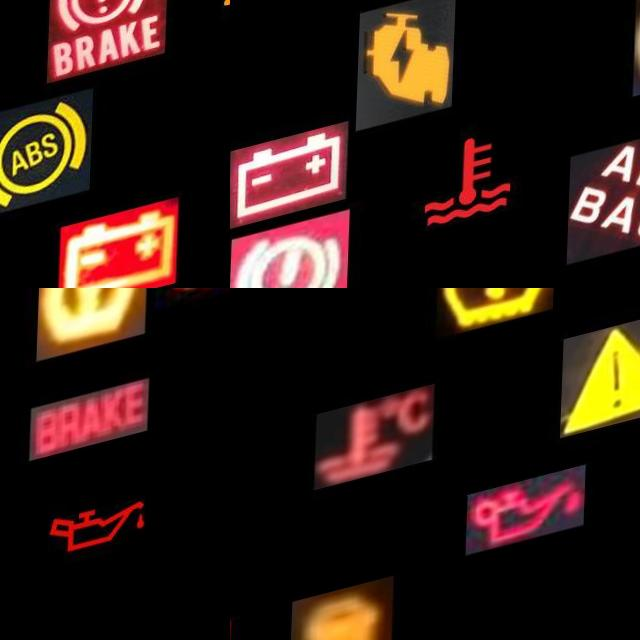Central Warning lamp: (562, 341, 640, 465)
Engine cooling system: (410, 122, 532, 265), (317, 404, 437, 504), (158, 288, 230, 339)
